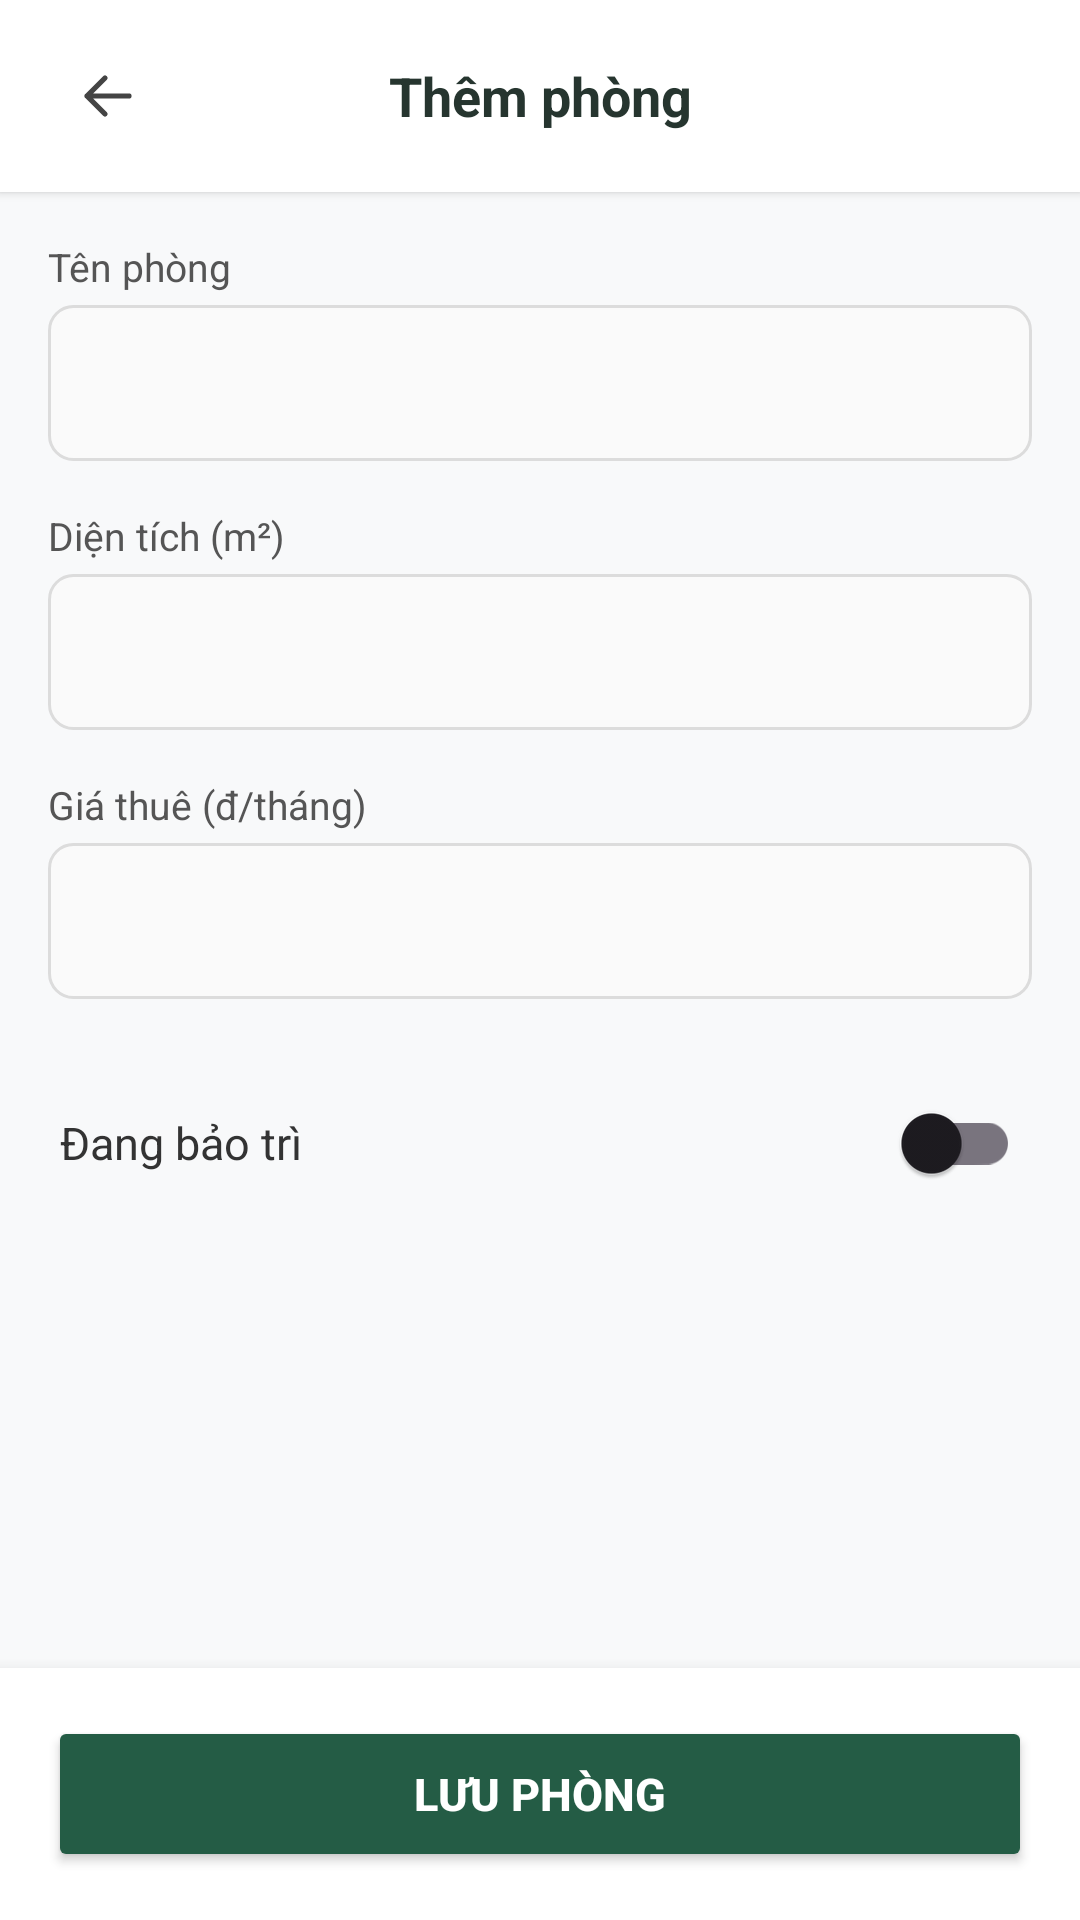

Icons on this 1080*1920 Android screen, each with the point to tap as point (x, y):
Quay lại: point (108, 96)
